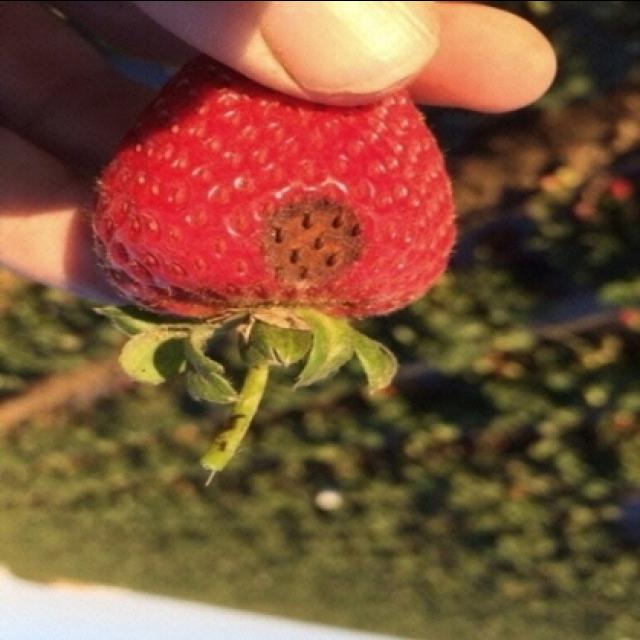Anthracnose Fruit Rot: (261, 192, 363, 295)
